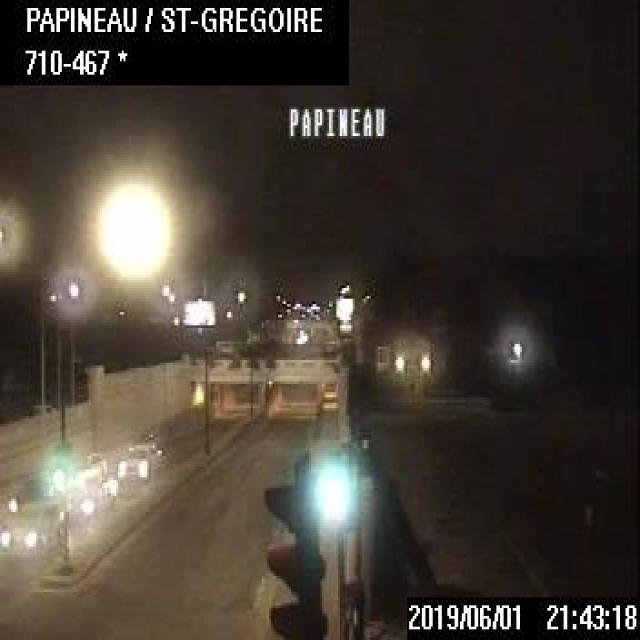vehicle: (0, 506, 67, 554), (57, 476, 115, 524), (5, 471, 56, 512), (54, 450, 106, 490), (114, 442, 164, 482)
